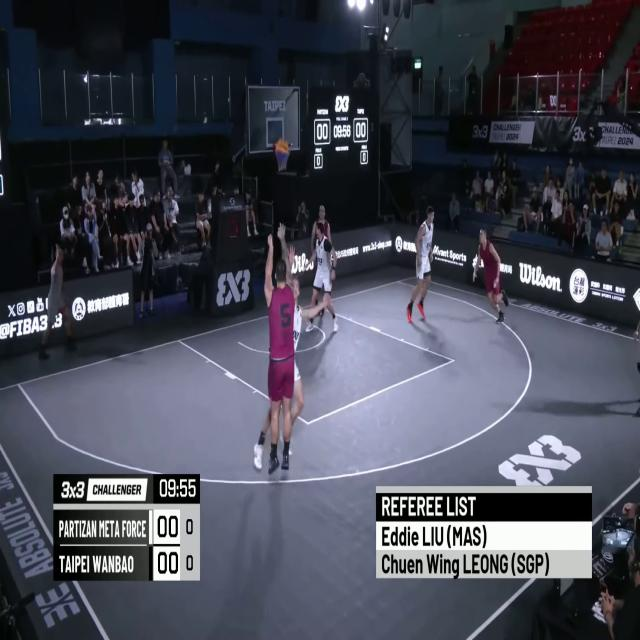ball: (275, 138, 290, 161)
hoop: (274, 138, 292, 174)
player: (250, 223, 330, 470), (258, 230, 324, 471), (304, 221, 340, 334), (472, 228, 510, 326), (309, 205, 336, 328), (408, 208, 434, 326)
